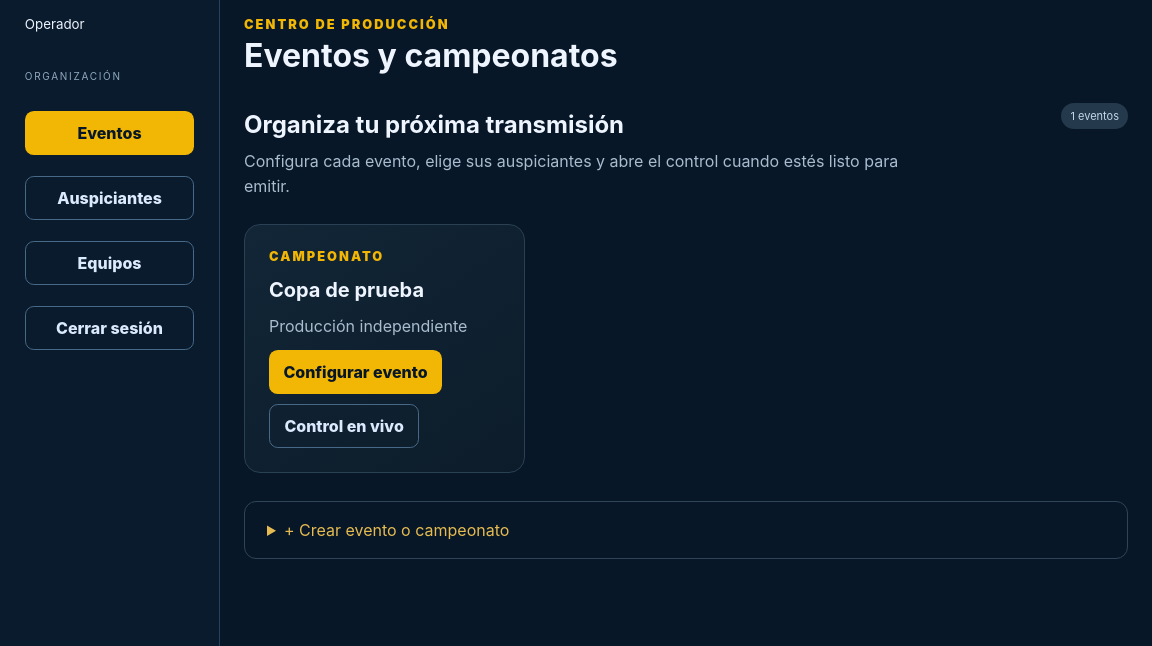
los errores de eliminación permanecen visibles y permiten reintentar
Click the button "Configurar evento": point(356, 372) [269,350,442,394]
(page scrolled)
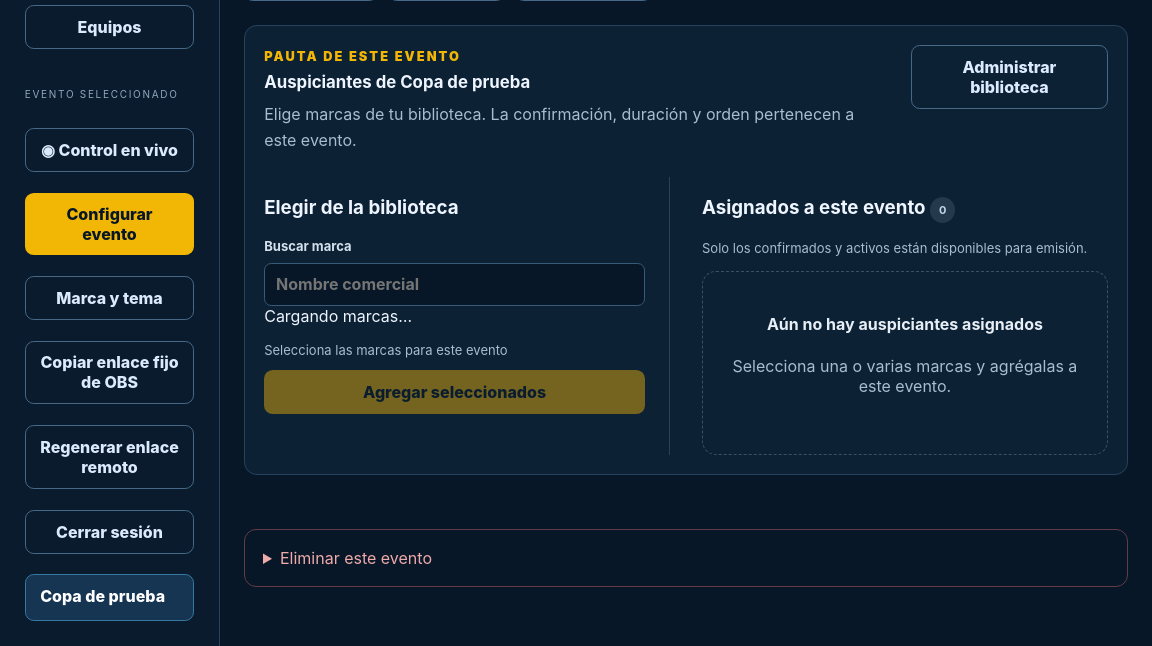
Click the heading "Eliminar este evento": point(356, 558) [280,548,432,568]
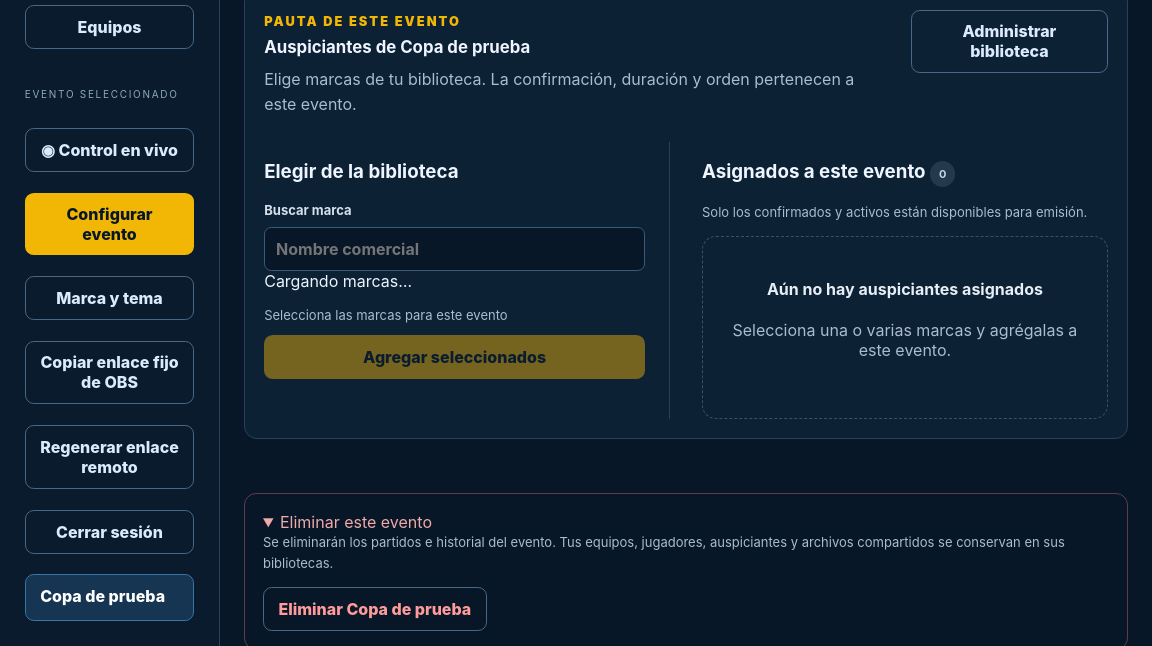
Click the button "Eliminar Copa de prueba": point(375, 609) [263,587,487,631]
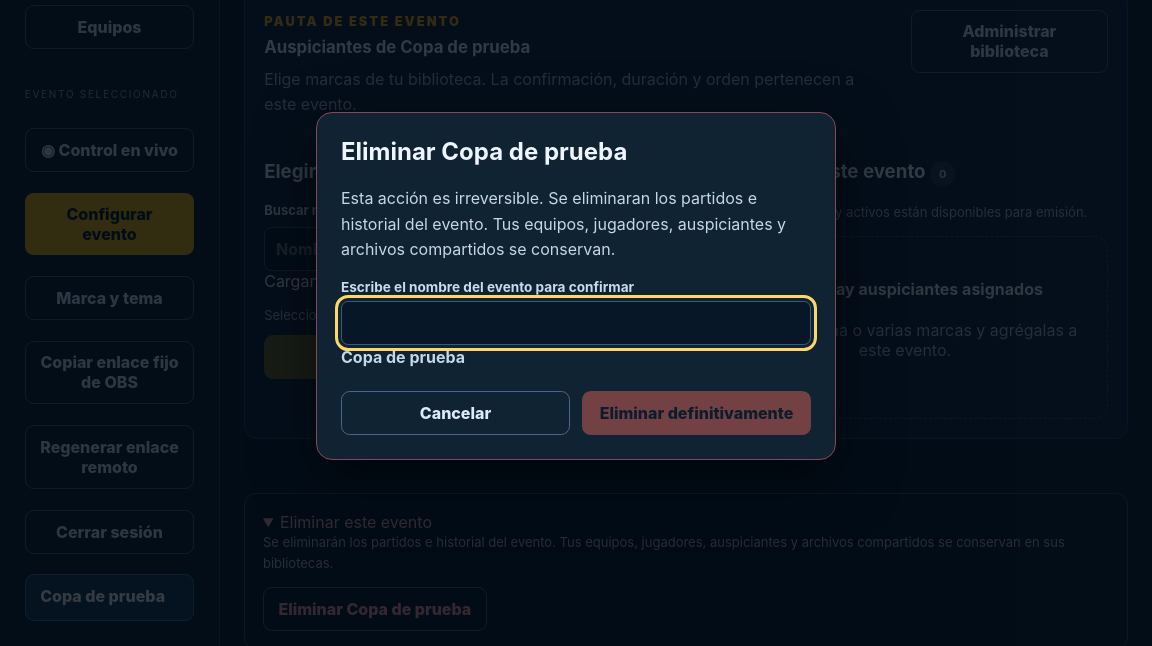
In the field labelled "Escribe el nombre del evento para confirmar": point(576, 323) [341,301,811,345], type "Copa de prueba"
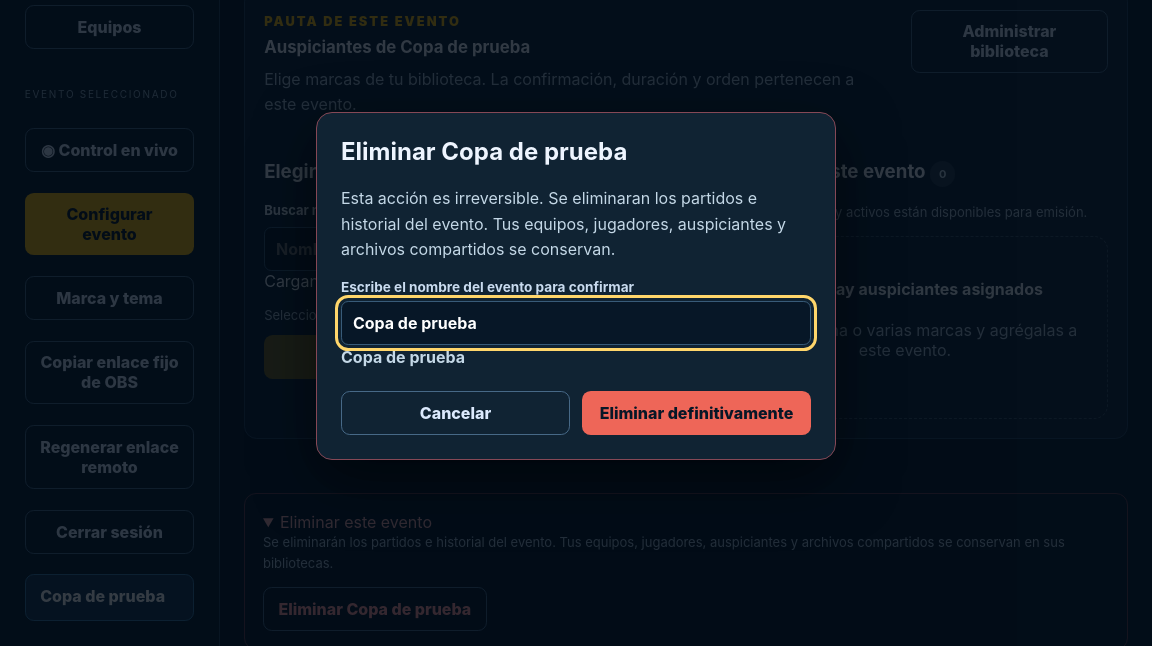
Click the button "Eliminar definitivamente": point(696, 413) [582,391,811,435]
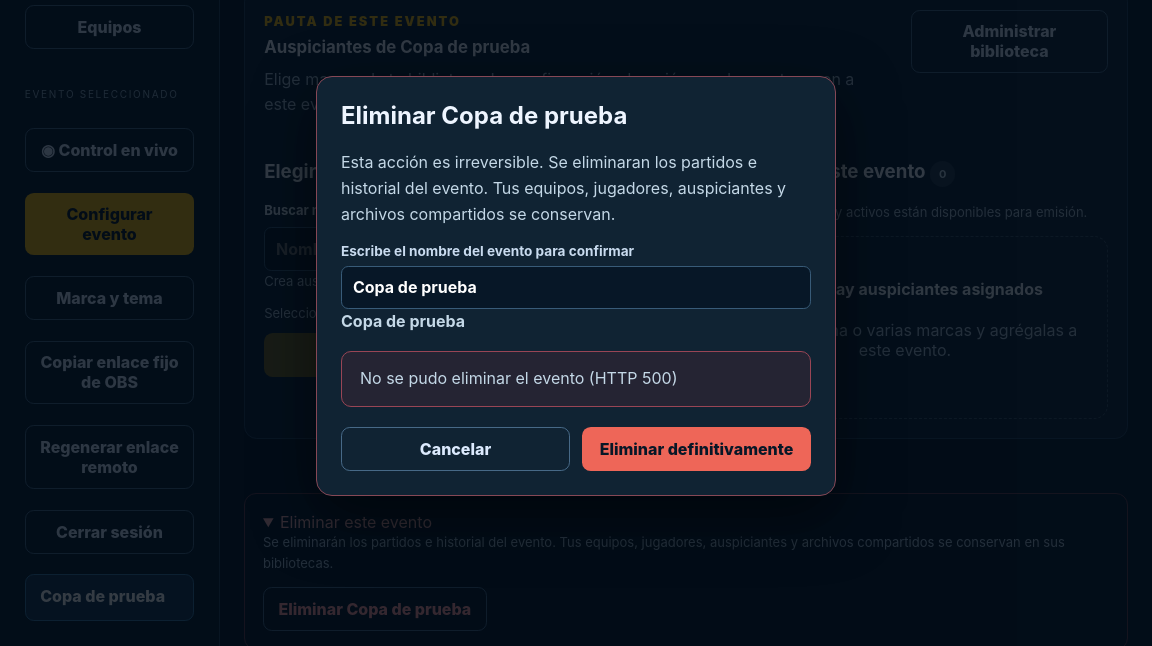
Now the dialog is shown, box [316,76,836,496]
Now the button "Eliminar definitivamente" is enabled, box [582,426,811,470]
Now the message shows "No se pudo eliminar el evento", box [360,368,678,388]
